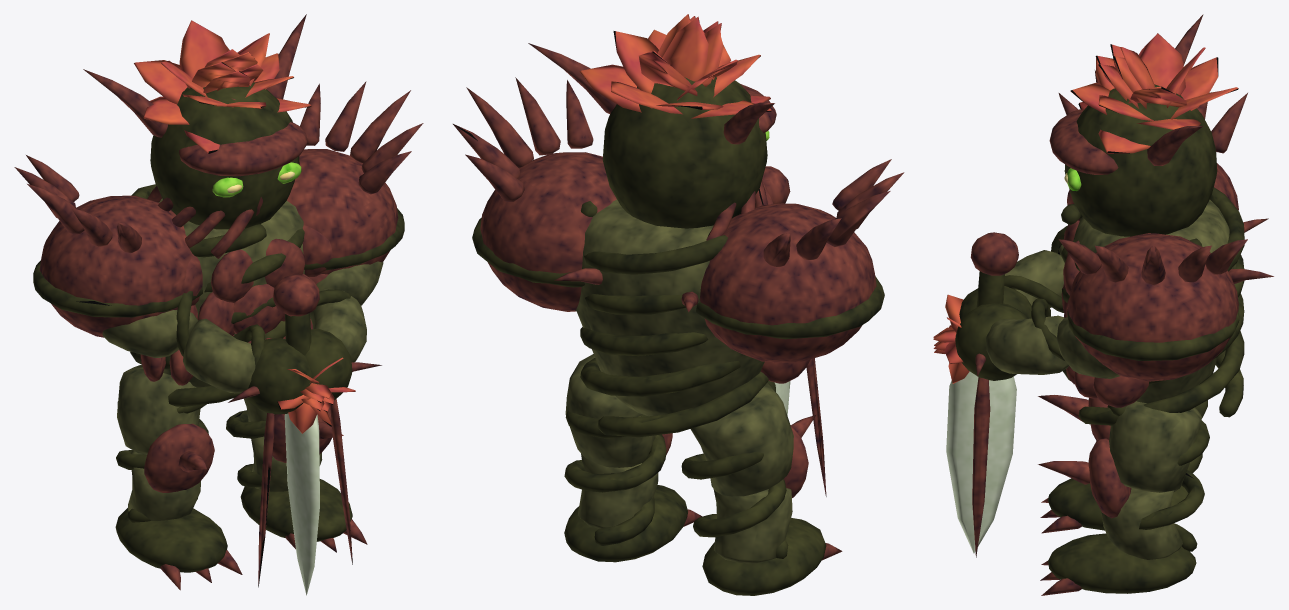
The model's file is chr_elite_thorn_sentinel.glb.
The picture shows the model from 3 angles, left to right: view 1: azimuth 30°, elevation 25°; view 2: azimuth 150°, elevation 25°; view 3: azimuth 270°, elevation 25°; orthographic projection. The views are drawn at different scales.
Parts seen in each view (by area): view 1: chr_elite_thorn_sentinel; view 2: chr_elite_thorn_sentinel; view 3: chr_elite_thorn_sentinel.
Part boxes in pixels (x1,y1,x2,y2): chr_elite_thorn_sentinel: (14,14,423,595); chr_elite_thorn_sentinel: (453,14,904,595); chr_elite_thorn_sentinel: (933,14,1273,595).
Size of the model in its own units: 2.77 by 3.41 by 2.08.
1 material, 1 textured.
